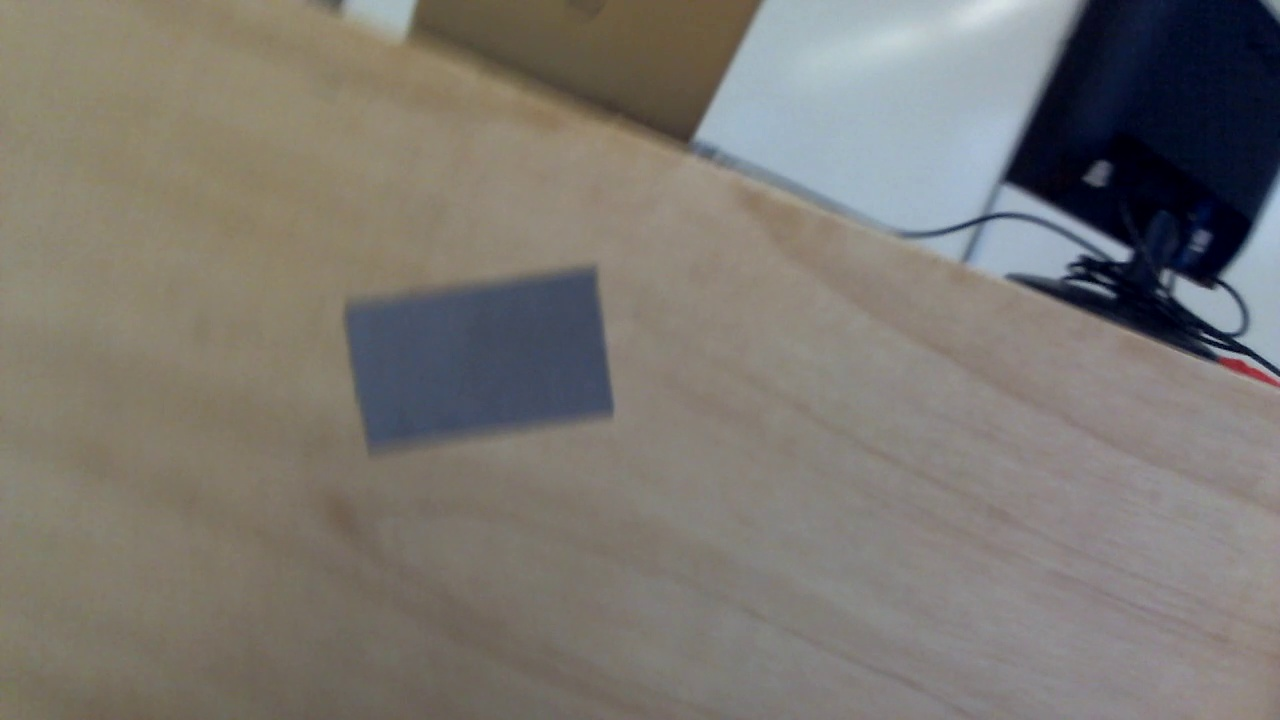Tape: (345, 267, 617, 452)
